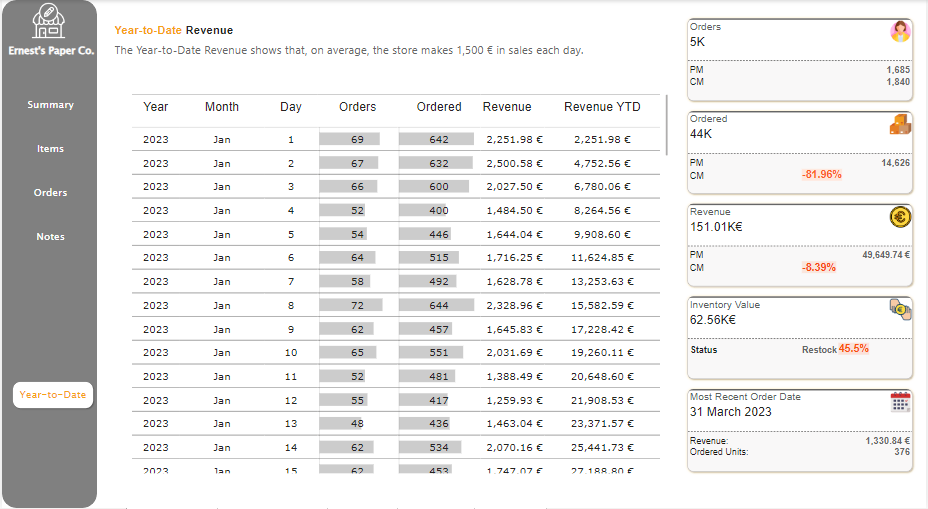

The dashboard page shown, as its layout file describes it:
{"tool":"powerbi","page":{"name":"Year-to-Date","canvas":[3000,1650],"ordinal":1},"visuals":[{"type":"shape","box":[0,0,308.6,1650],"z":0},{"type":"image","box":[78,0,146.2,133.2],"z":0,"group":"g2"},{"type":"textbox","box":[16.3,136.4,298.8,100.7],"z":1000,"group":"g2"},{"type":"tableEx","fields":{"Values":["CalenderDim.Year","CalenderDim.MonthName","CalenderDim.Date.Variation.Date Hierarchy.Day","Measures (2).Orders","Measures (2).Ordered","Measures (2).Revenue","Measures (2).YTD"]},"box":[406,292.3,1770.2,1257],"z":1000},{"type":"shape","box":[26,1231,279.3,103.9],"z":1000,"group":"g1"},{"type":"textbox","box":[360.5,71.5,1848.1,188.4],"z":2000},{"type":"actionButton","box":[14.8,292.3,283.5,97.4],"z":2000,"group":"g1"},{"type":"cardVisual","fields":{"Data":["Measures (2).Orders","Measures (2).Ordered","Measures (2).Revenue","Measures (2).Inventory Value","Max(public order_details.order_date)"]},"box":[2208.7,42.2,766.5,1507.1],"z":3000},{"type":"actionButton","box":[14.8,435,283.5,97.4],"z":3000,"group":"g1"},{"type":"group","id":"g1","title":"Group 2","box":[14.8,0,300.3,1334.9],"z":4000},{"type":"actionButton","box":[14.8,577.8,283.5,97.4],"z":4000,"group":"g1"},{"type":"actionButton","box":[14.8,720.5,283.5,97.4],"z":5000,"group":"g1"},{"type":"actionButton","box":[32.5,1247.2,266.3,68.2],"z":6000,"group":"g1"},{"type":"group","id":"g2","title":"Group 1","box":[16.3,0,298.8,237.1],"z":9002,"group":"g1"}]}

Visuals, with their boxes on the page's 3000x1650 design canvas (x1, y1, x2, y2). These are canvas units, not pixel positions in the 928x509 screenshot, which may show the page scaled, cropped or inside an application window:
shape: region(0, 0, 309, 1650)
image: region(78, 0, 224, 133)
textbox: region(16, 136, 315, 237)
tableEx - CalenderDim.Year x CalenderDim.MonthName: region(406, 292, 2176, 1549)
shape: region(26, 1231, 305, 1335)
textbox: region(360, 72, 2209, 260)
actionButton: region(15, 292, 298, 390)
cardVisual - Measures (2).Orders x Measures (2).Ordered: region(2209, 42, 2975, 1549)
actionButton: region(15, 435, 298, 532)
"Group 2" group: region(15, 0, 315, 1335)
actionButton: region(15, 578, 298, 675)
actionButton: region(15, 720, 298, 818)
actionButton: region(32, 1247, 299, 1315)
"Group 1" group: region(16, 0, 315, 237)
